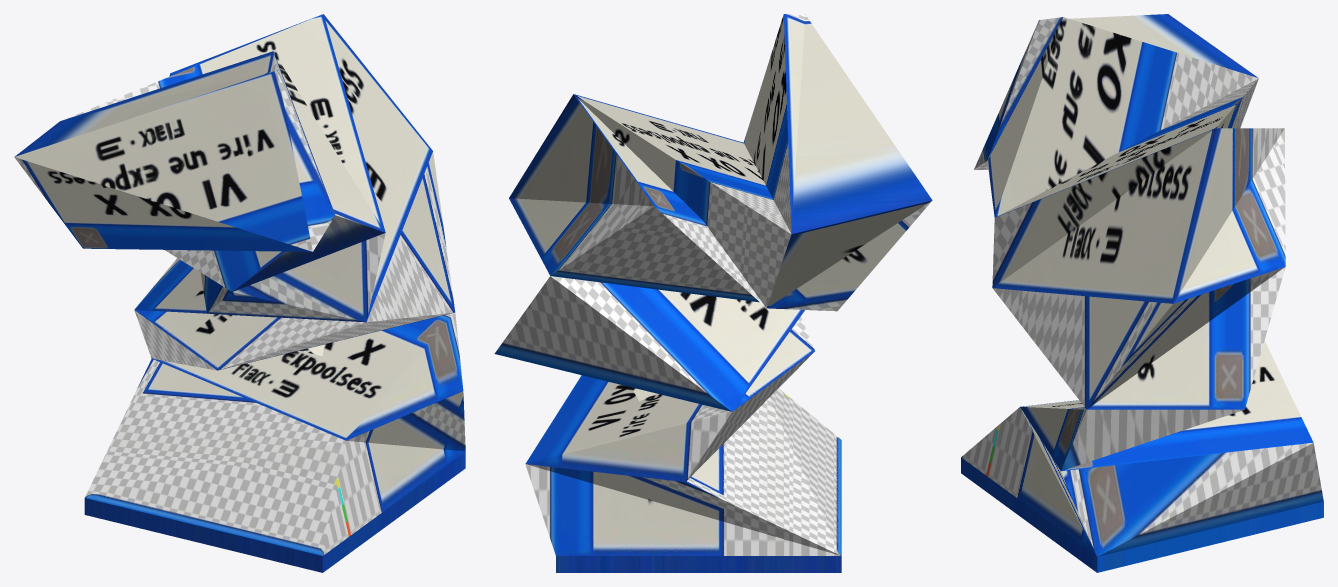
Rendered from Sculpture2.gltf.
The picture shows the model from 3 angles, left to right: view 1: azimuth 30°, elevation 25°; view 2: azimuth 150°, elevation 25°; view 3: azimuth 270°, elevation 25°; orthographic projection. The views are drawn at different scales.
Parts seen in each view (by area): view 1: group_0; view 2: group_0; view 3: group_0.
Boxes of the visible parts, x1,y1,x2,y2 form: group_0: (14,14,465,572); group_0: (494,14,932,572); group_0: (961,14,1323,572).
Bounding box in the file's own units: 4.18 × 4.56 × 3.27.
1 material, 1 textured.
